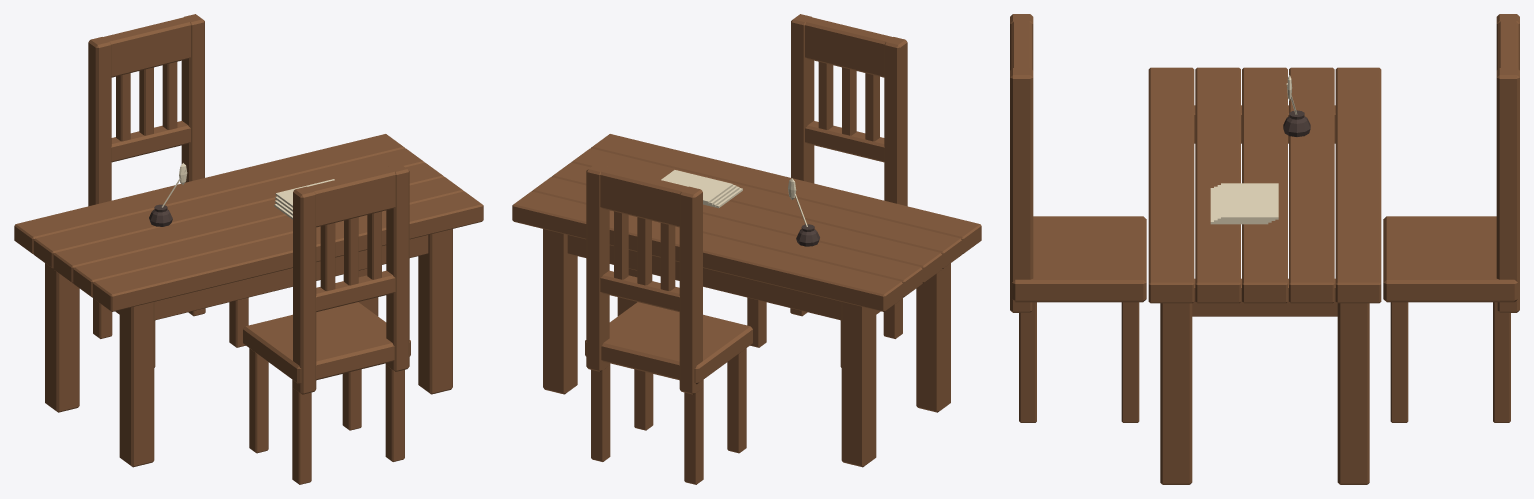
Rendered from interrogation-table.glb.
3 renders of one model, left to right at view 1: azimuth 30°, elevation 25°; view 2: azimuth 150°, elevation 25°; view 3: azimuth 270°, elevation 25°, orthographic. The views are drawn at different scales.
Visible parts, largest first — view 1: Board.004, Board, Board.025, Board.001, Board.006, Board.003, Board.008, Board.002, Board.005, Board.028, Board.031, Board.016 (+18 smaller); view 2: Board, Board.004, Board.013, Board.003, Board.005, Board.007, Board.001, Board.002, Board.006, Board.016, Board.019, Board.028 (+19 smaller); view 3: Board, Board.004, Board.013, Board.025, Board.001, Board.003, Board.002, Board.007, Board.008, Board.019, Board.031, Board.018 (+8 smaller).
Part boxes in pixels (bbox=[...]): Board.004: bbox=[93, 191, 483, 311]; Board: bbox=[14, 134, 404, 254]; Board.025: bbox=[243, 302, 410, 384]; Board.001: bbox=[34, 148, 424, 268]; Board.006: bbox=[119, 302, 154, 467]; Board.003: bbox=[73, 177, 463, 297]; Board.008: bbox=[418, 229, 452, 394]; Board.002: bbox=[53, 162, 444, 283]; Board.005: bbox=[45, 263, 79, 412]; Board.028: bbox=[293, 186, 316, 394]; Board.031: bbox=[386, 164, 409, 371]; Board.016: bbox=[88, 37, 111, 206]; Board: bbox=[512, 191, 902, 311]; Board.004: bbox=[591, 134, 981, 254]; Board.013: bbox=[585, 302, 752, 384]; Board.003: bbox=[571, 148, 961, 268]; Board.005: bbox=[841, 302, 876, 467]; Board.007: bbox=[543, 229, 577, 394]; Board.001: bbox=[532, 177, 922, 297]; Board.002: bbox=[551, 162, 942, 283]; Board.006: bbox=[916, 263, 950, 412]; Board.016: bbox=[679, 186, 702, 394]; Board.019: bbox=[586, 164, 609, 371]; Board.028: bbox=[884, 37, 907, 206]; Board: bbox=[1335, 67, 1381, 303]; Board.004: bbox=[1148, 67, 1194, 303]; Board.013: bbox=[1383, 216, 1517, 302]; Board.025: bbox=[1012, 216, 1146, 302]; Board.001: bbox=[1289, 67, 1334, 303]; Board.003: bbox=[1195, 67, 1240, 303]; Board.002: bbox=[1242, 67, 1287, 303]; Board.007: bbox=[1337, 303, 1369, 484]; Board.008: bbox=[1160, 303, 1192, 484]; Board.019: bbox=[1496, 68, 1519, 312]; Board.031: bbox=[1010, 68, 1033, 312]; Board.018: bbox=[1390, 302, 1408, 422].
Bounding box in the file's own units: 1.6 × 1.2 × 1.59.
